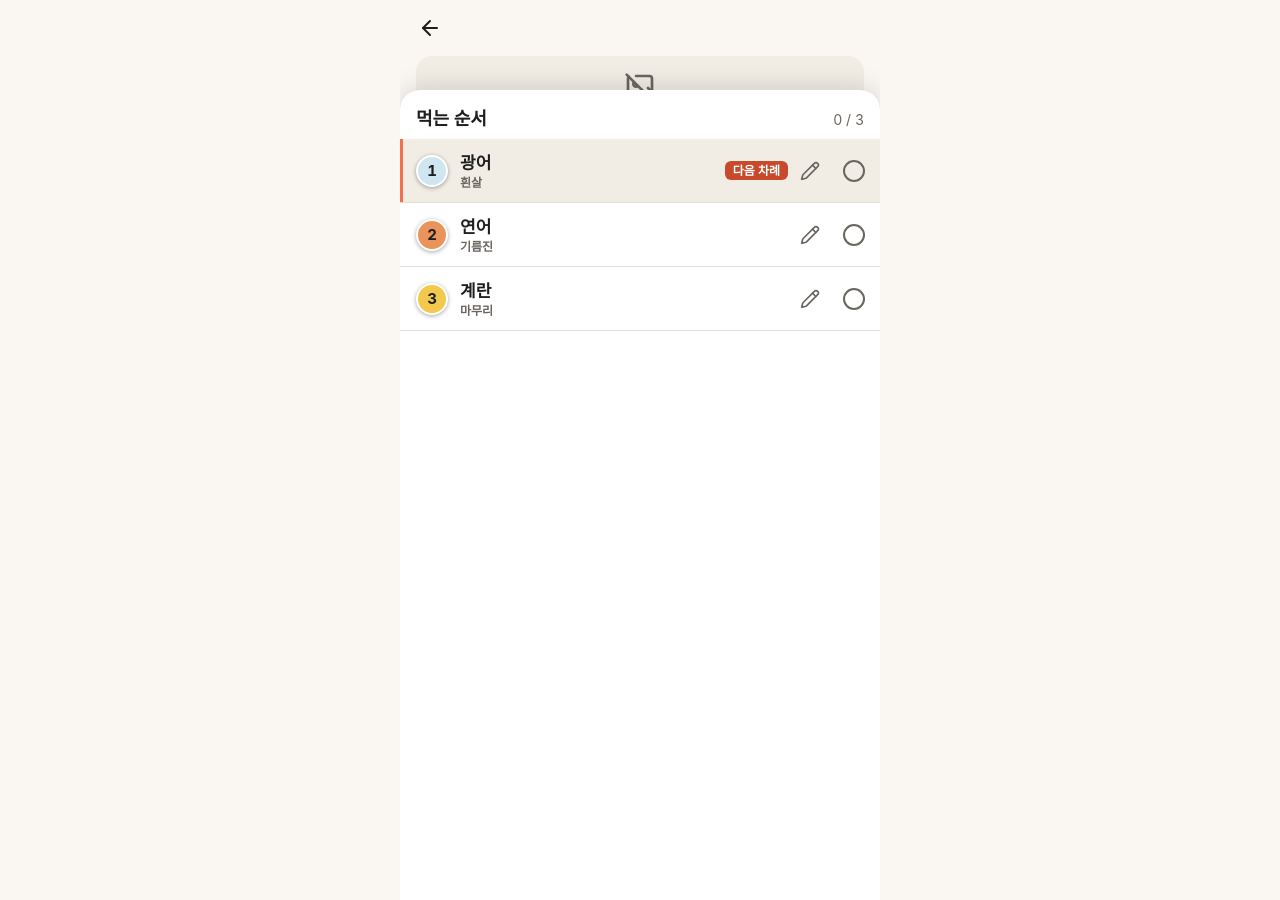
it: ResultPage › F6-3 길게 눌러 종류를 고르면 낙관적으로 순서가 바뀌고 서버 응답으로 동기화한다
Press the mouse on the button "1 광어 흰살 다음 차례": [432, 171] box [416,153,788,190]
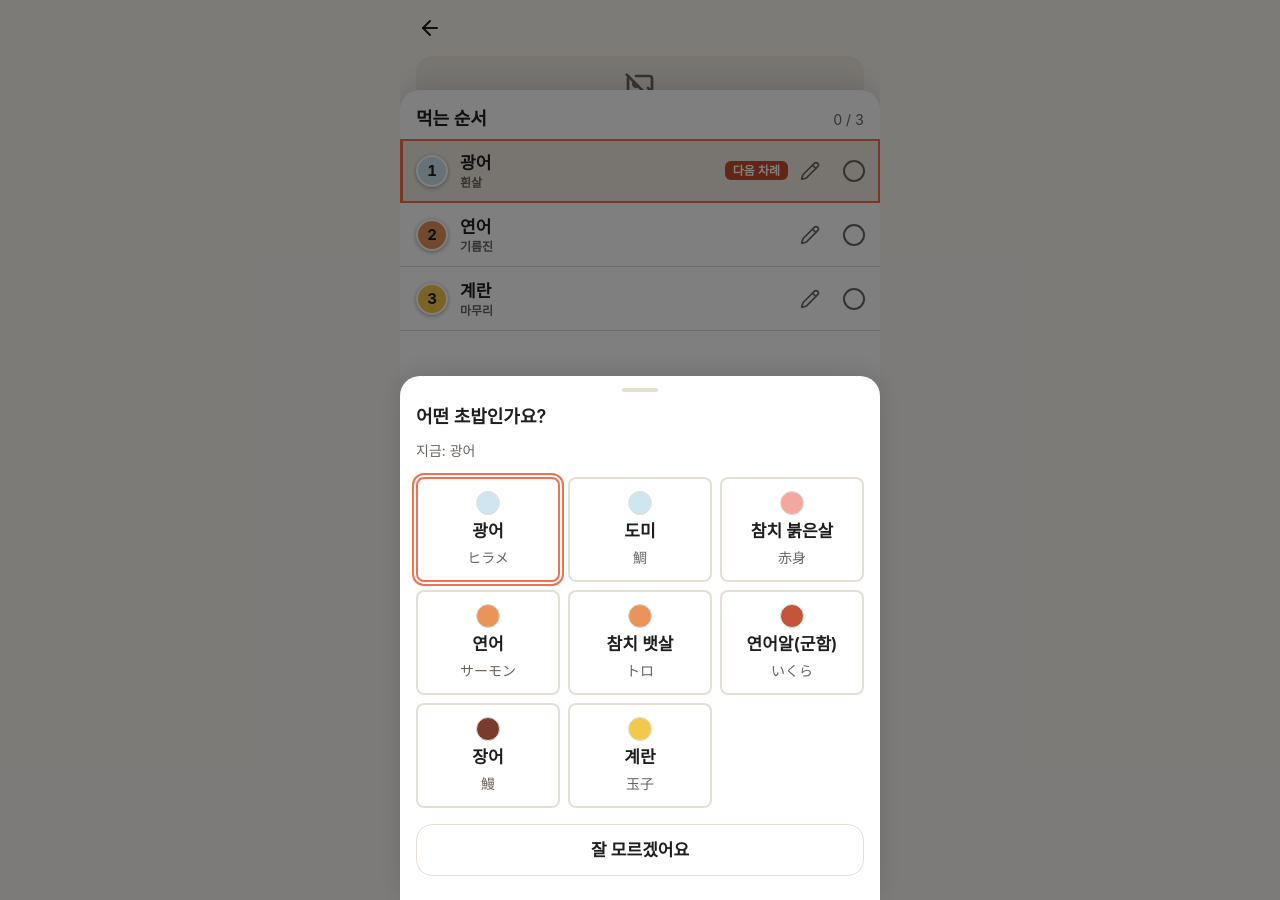
Check: the text "지금: 광어" is shown, box [416,442,476,459]
Click the button "참치 뱃살 トロ": [640, 643] box [568,590,712,695]
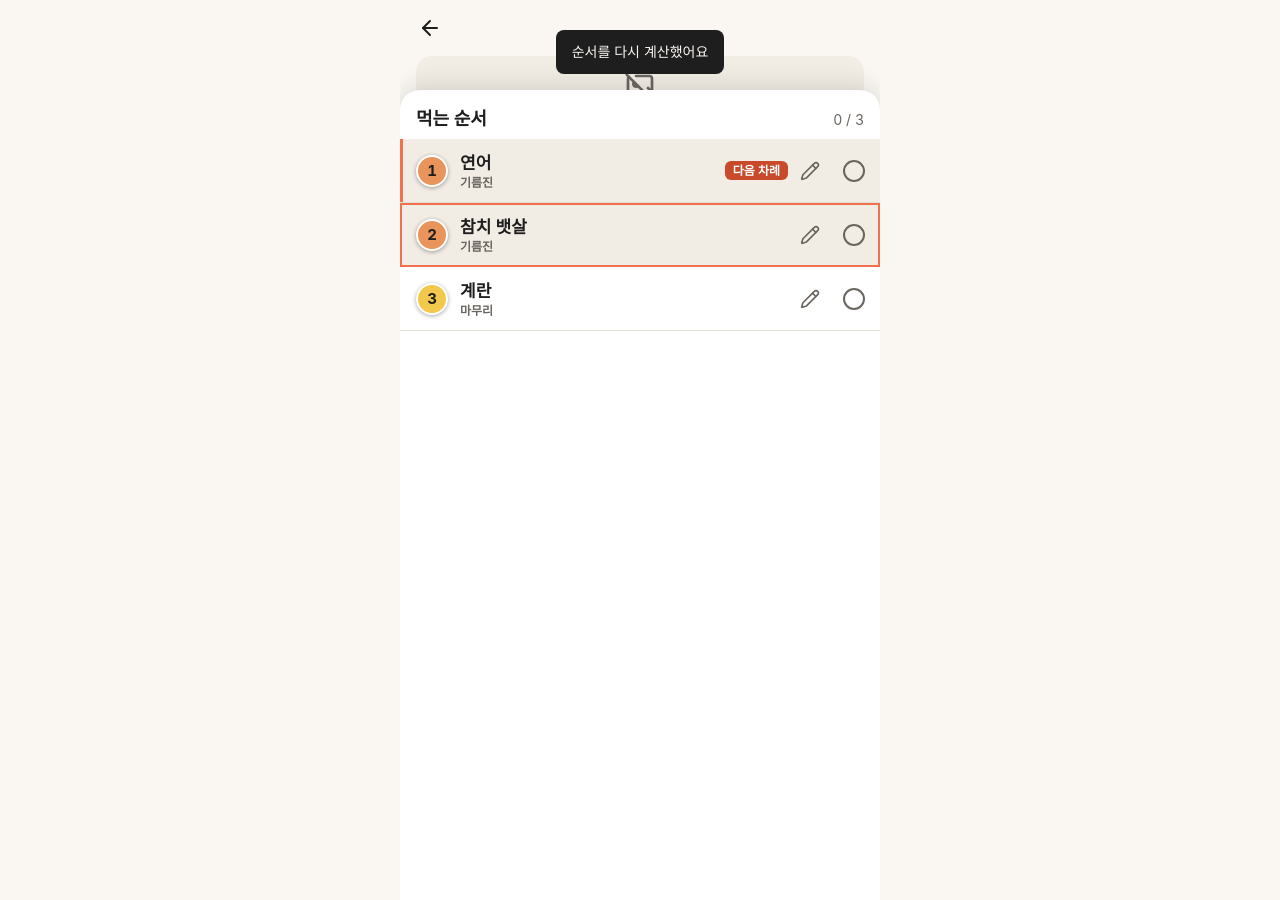
Check: the text "순서를 다시 계산했어요" is shown, box [572,42,708,62]
Check: the dialog is gone
